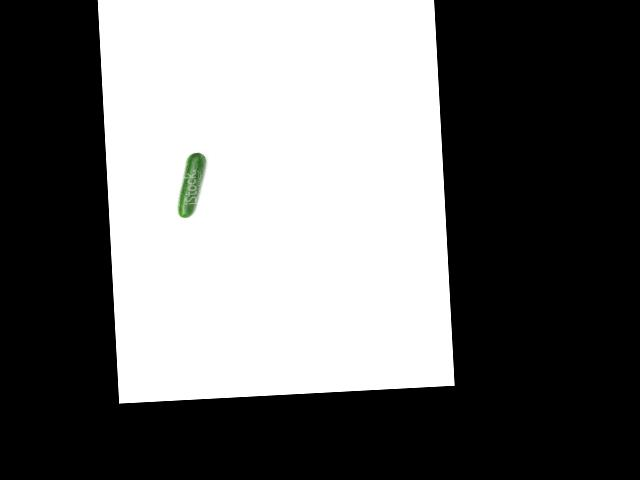cucumber: (175, 151, 208, 218)
